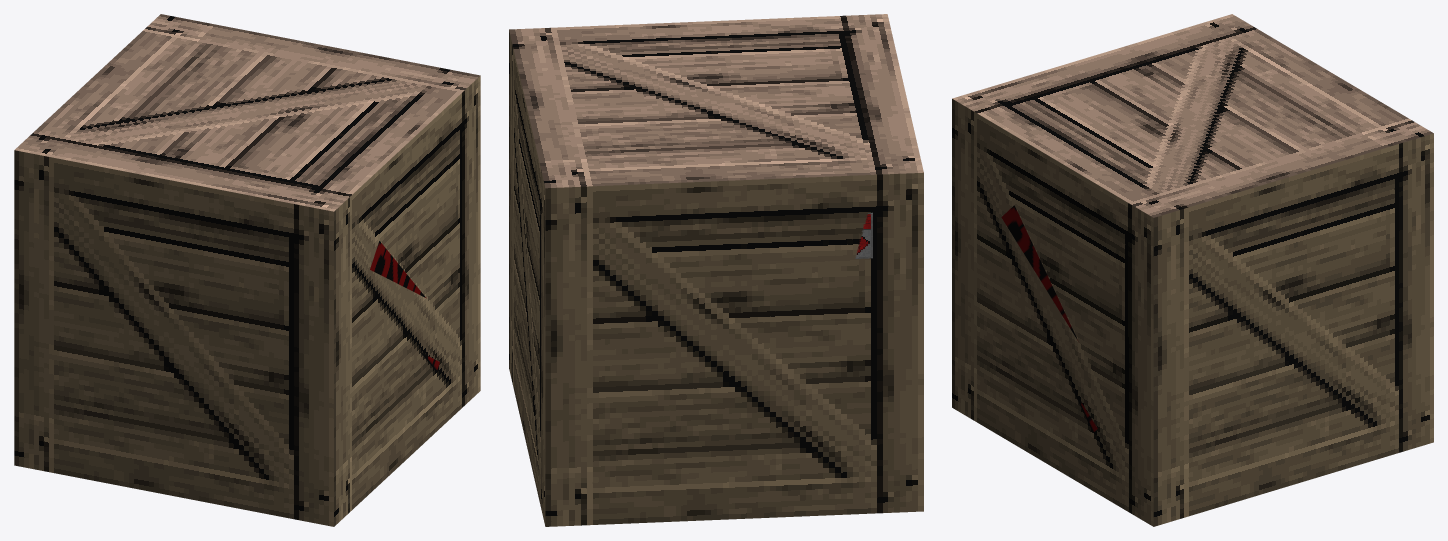
Rendered from primary_079.glb.
3 renders of one model, left to right at view 1: azimuth 30°, elevation 25°; view 2: azimuth 150°, elevation 25°; view 3: azimuth 270°, elevation 25°, orthographic. The views are drawn at different scales.
Visible parts, largest first — view 1: Object; view 2: Object; view 3: Object.
Part boxes in pixels (left/top/right/bottom): Object: left=14, top=14, right=480, bottom=526; Object: left=509, top=14, right=923, bottom=526; Object: left=952, top=14, right=1433, bottom=526.
Bounding box in the file's own units: 1.59 × 1.12 × 1.58.
Materials: 7 (7 with a texture image).
